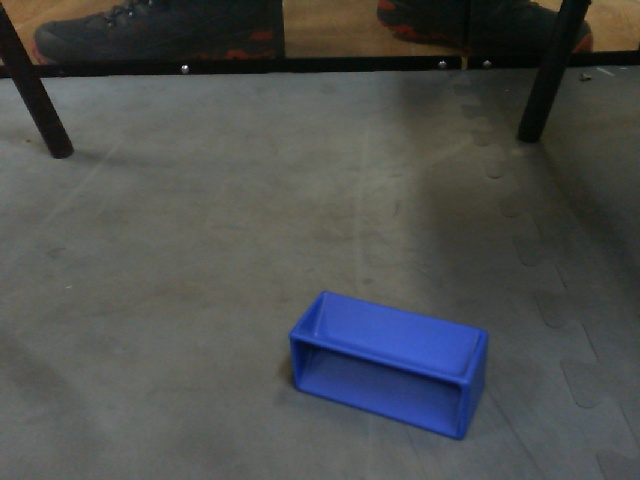BlueSample: (284, 288, 493, 449)
